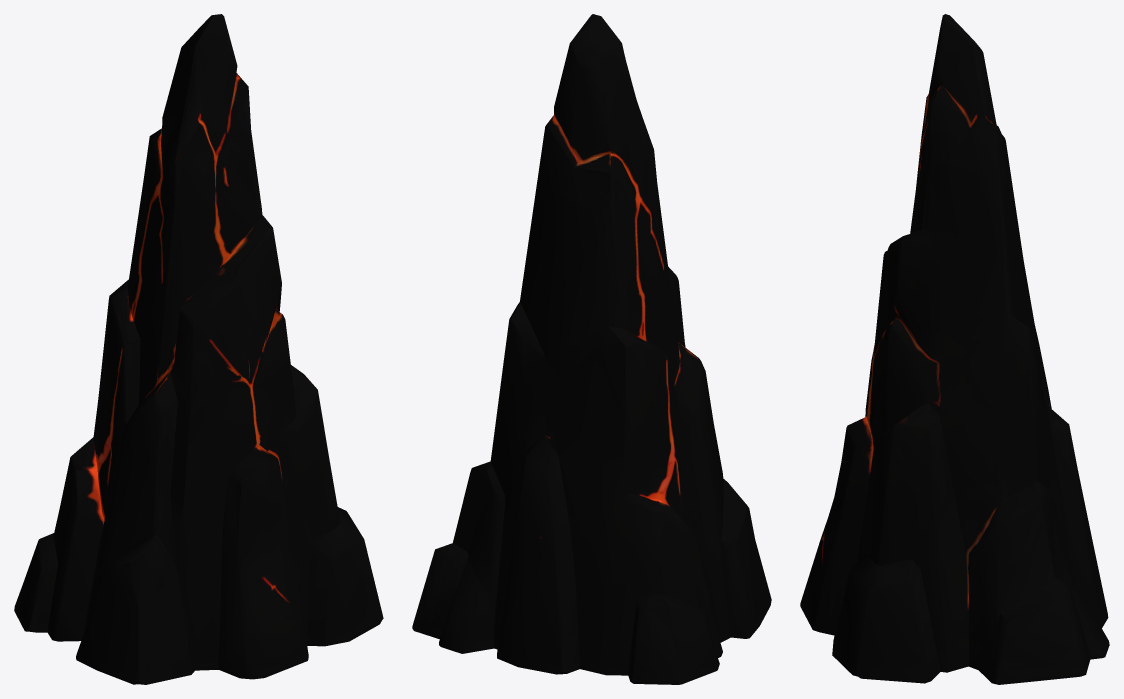
The model's file is basalt_spire.glb.
3 renders of one model, left to right at view 1: azimuth 30°, elevation 25°; view 2: azimuth 150°, elevation 25°; view 3: azimuth 270°, elevation 25°, orthographic.
Parts seen in each view (by area): view 1: basalt_spire; view 2: basalt_spire; view 3: basalt_spire.
Part boxes in pixels (box(x1,y1,x2,y2)): basalt_spire: box(14, 14, 383, 684); basalt_spire: box(412, 14, 771, 684); basalt_spire: box(800, 14, 1109, 684).
Size of the model in its own units: 3.57 by 7 by 3.25.
Materials: 1 (1 with a texture image).
